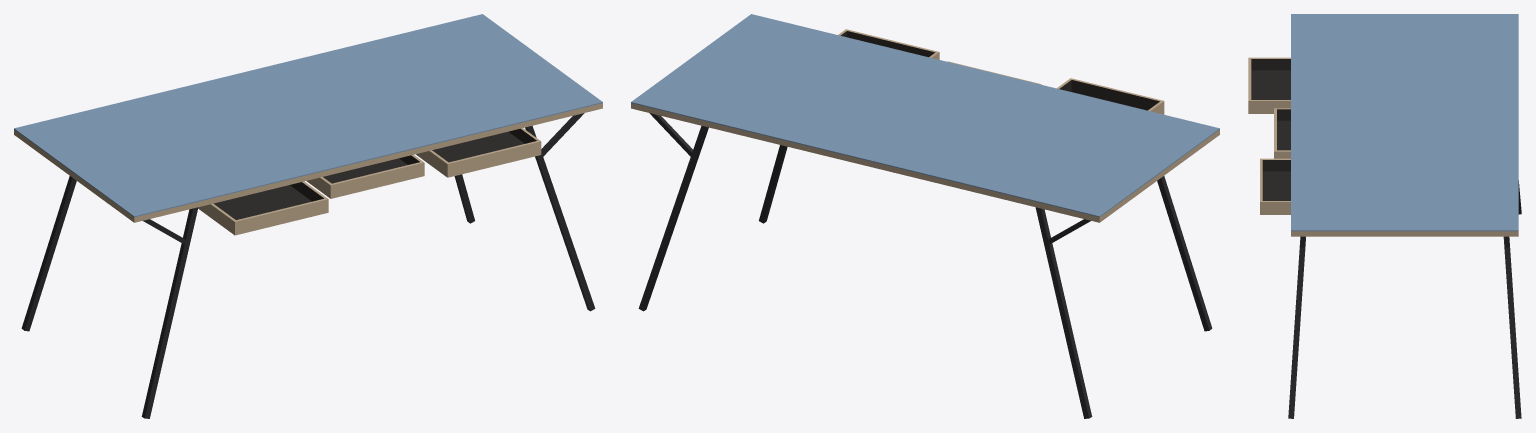
File: desk-schoepfer.glb
3 views of the same model, side by side, from view 1: azimuth 30°, elevation 25°; view 2: azimuth 150°, elevation 25°; view 3: azimuth 270°, elevation 25° (orthographic). The views are drawn at different scales.
Parts seen in each view (by area): view 1: Top, Drawers, Frame; view 2: Top, Frame, Drawers; view 3: Top, Drawers, Frame.
Boxes of the visible parts, <box> form: Top: <box>14,14,602,222</box>; Drawers: <box>198,128,541,235</box>; Frame: <box>21,113,595,418</box>; Top: <box>631,14,1219,222</box>; Frame: <box>638,113,1212,418</box>; Drawers: <box>838,29,1164,114</box>; Top: <box>1291,14,1518,236</box>; Drawers: <box>1248,57,1290,214</box>; Frame: <box>1288,180,1521,418</box>.
Size of the model in its own units: 1.8 by 0.7535 by 0.96.
